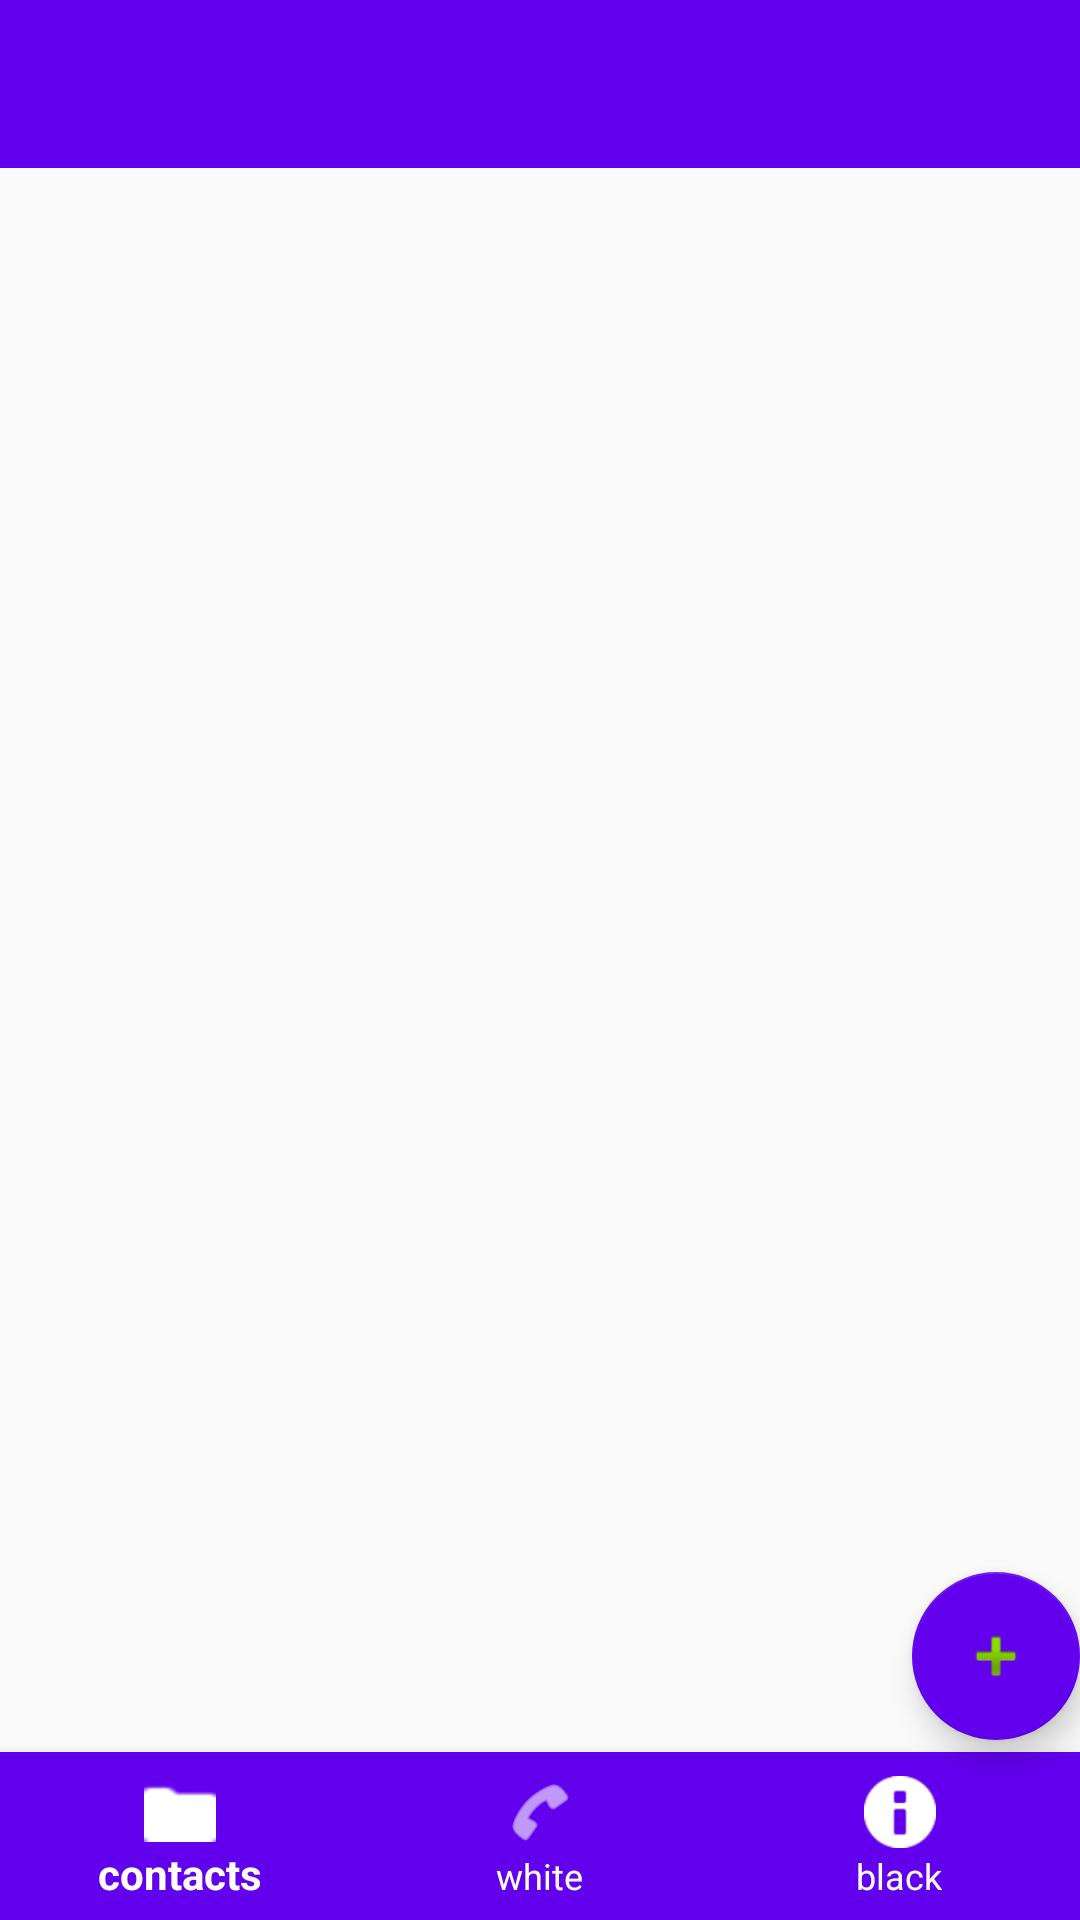

Icon click points for this 1080 x 1920 phone screenshot, format (x=x, y=y):
add: (x=996, y=1656)
